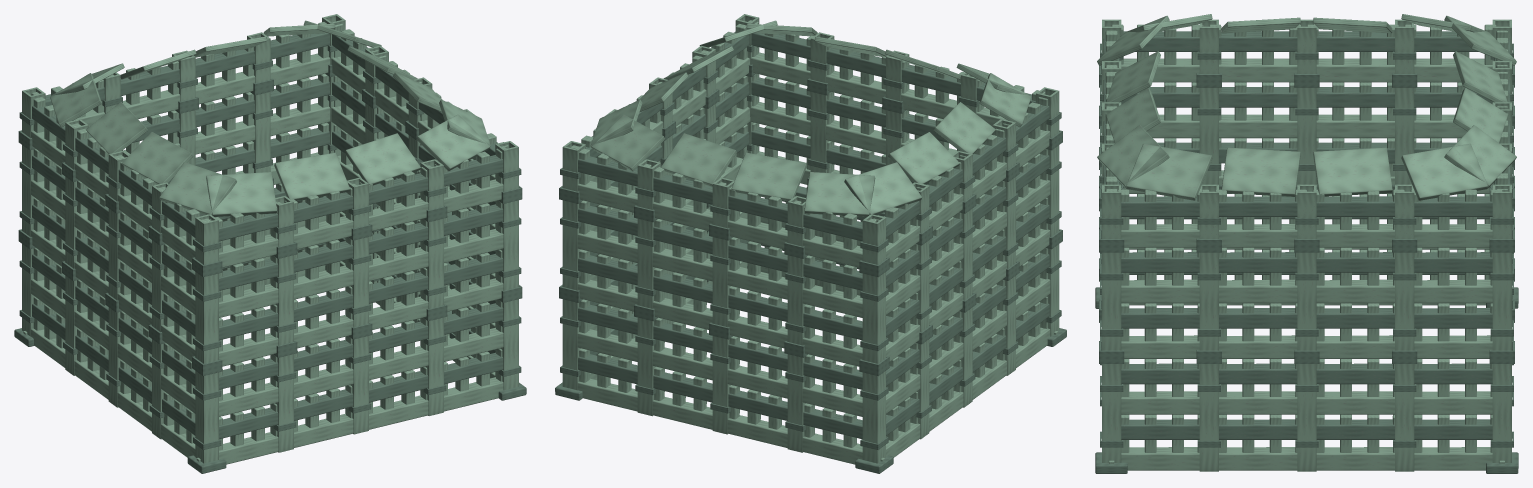
3 renders of one model, left to right at view 1: azimuth 30°, elevation 25°; view 2: azimuth 150°, elevation 25°; view 3: azimuth 270°, elevation 25°, orthographic. The views are drawn at different scales.
Parts seen in each view (by area): view 1: Crown alloy petal 0-1, Crown alloy petal 0-0, Crown alloy petal 0-2, Crown alloy petal 3-3, Crown alloy petal 3-2, Crown alloy petal 0-3, Tier 0 side 0 post 0, Tier 1 side 0 post 0, Crown alloy petal 3-1, Crown alloy petal 3-0, Tier 0 side 0 post 1, Tier 0 side 0 post 2 (+128 smaller); view 2: Crown alloy petal 2-2, Crown alloy petal 2-3, Crown alloy petal 2-1, Crown alloy petal 3-0, Crown alloy petal 3-1, Crown alloy petal 2-0, Tier 0 side 3 post 0, Tier 1 side 3 post 0, Crown alloy petal 3-2, Crown alloy petal 3-3, Tier 0 side 2 post 2, Tier 0 side 2 post 3 (+127 smaller); view 3: Crown alloy petal 1-2, Crown alloy petal 1-1, Crown alloy petal 1-0, Crown alloy petal 1-3, Crown alloy petal 0-3, Crown alloy petal 2-0, Tier 0 side 1 post 2, Tier 0 side 1 post 1, Tier 0 side 1 post 3, Tier 1 bay 3-1-1 shield lower edge, Tier 1 bay 3-1-2 shield lower edge, Tier 1 bay 1-1-1 shield lower edge (+83 smaller).
Boxes of the visible parts, x1,y1,x2,y2 form: Crown alloy petal 0-1: (274, 152, 349, 200); Crown alloy petal 0-0: (206, 172, 277, 216); Crown alloy petal 0-2: (344, 133, 420, 185); Crown alloy petal 3-3: (159, 162, 236, 214); Crown alloy petal 3-2: (121, 132, 193, 184); Crown alloy petal 0-3: (416, 114, 490, 171); Tier 0 side 0 post 0: (195, 371, 218, 463); Tier 1 side 0 post 0: (195, 272, 218, 363); Crown alloy petal 3-1: (86, 102, 147, 154); Crown alloy petal 3-0: (50, 73, 101, 127); Tier 0 side 0 post 1: (270, 354, 293, 452); Tier 0 side 0 post 2: (345, 336, 368, 434); Crown alloy petal 2-2: (731, 152, 806, 201); Crown alloy petal 2-3: (804, 172, 875, 216); Crown alloy petal 2-1: (661, 133, 736, 186); Crown alloy petal 3-0: (844, 162, 922, 214); Crown alloy petal 3-1: (888, 132, 959, 184); Crown alloy petal 2-0: (591, 114, 664, 171); Tier 0 side 3 post 0: (862, 371, 885, 463); Tier 1 side 3 post 0: (862, 272, 885, 363); Crown alloy petal 3-2: (933, 102, 995, 153); Crown alloy petal 3-3: (979, 73, 1031, 127); Tier 0 side 2 post 2: (712, 336, 730, 434); Tier 0 side 2 post 3: (787, 354, 805, 452); Crown alloy petal 1-2: (1313, 147, 1392, 196); Crown alloy petal 1-1: (1221, 147, 1300, 196); Crown alloy petal 1-0: (1126, 143, 1212, 200); Crown alloy petal 1-3: (1401, 143, 1487, 200); Crown alloy petal 0-3: (1097, 125, 1169, 188); Crown alloy petal 2-0: (1444, 125, 1516, 188); Tier 0 side 1 post 2: (1297, 364, 1316, 471); Tier 0 side 1 post 1: (1199, 364, 1218, 471); Tier 0 side 1 post 3: (1395, 364, 1414, 471); Tier 1 bay 3-1-1 shield lower edge: (1316, 114, 1394, 138); Tier 1 bay 3-1-2 shield lower edge: (1219, 114, 1297, 138); Tier 1 bay 1-1-1 shield lower edge: (1219, 279, 1297, 303).
Size of the model in its own units: 1.95 by 1.53 by 1.95.
2 materials, 2 textured.
